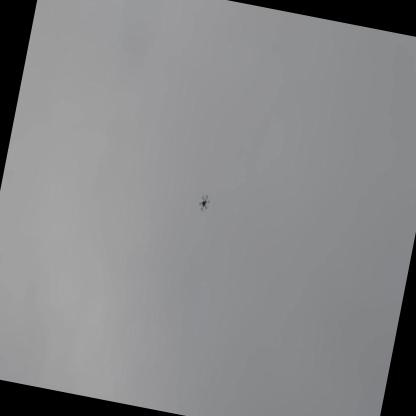drone: (192, 186, 215, 217)
